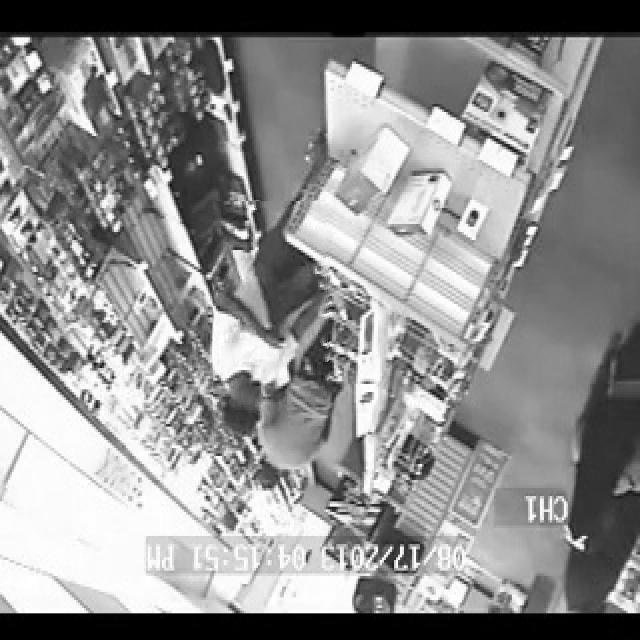Shoplifting: (213, 201, 329, 445)
